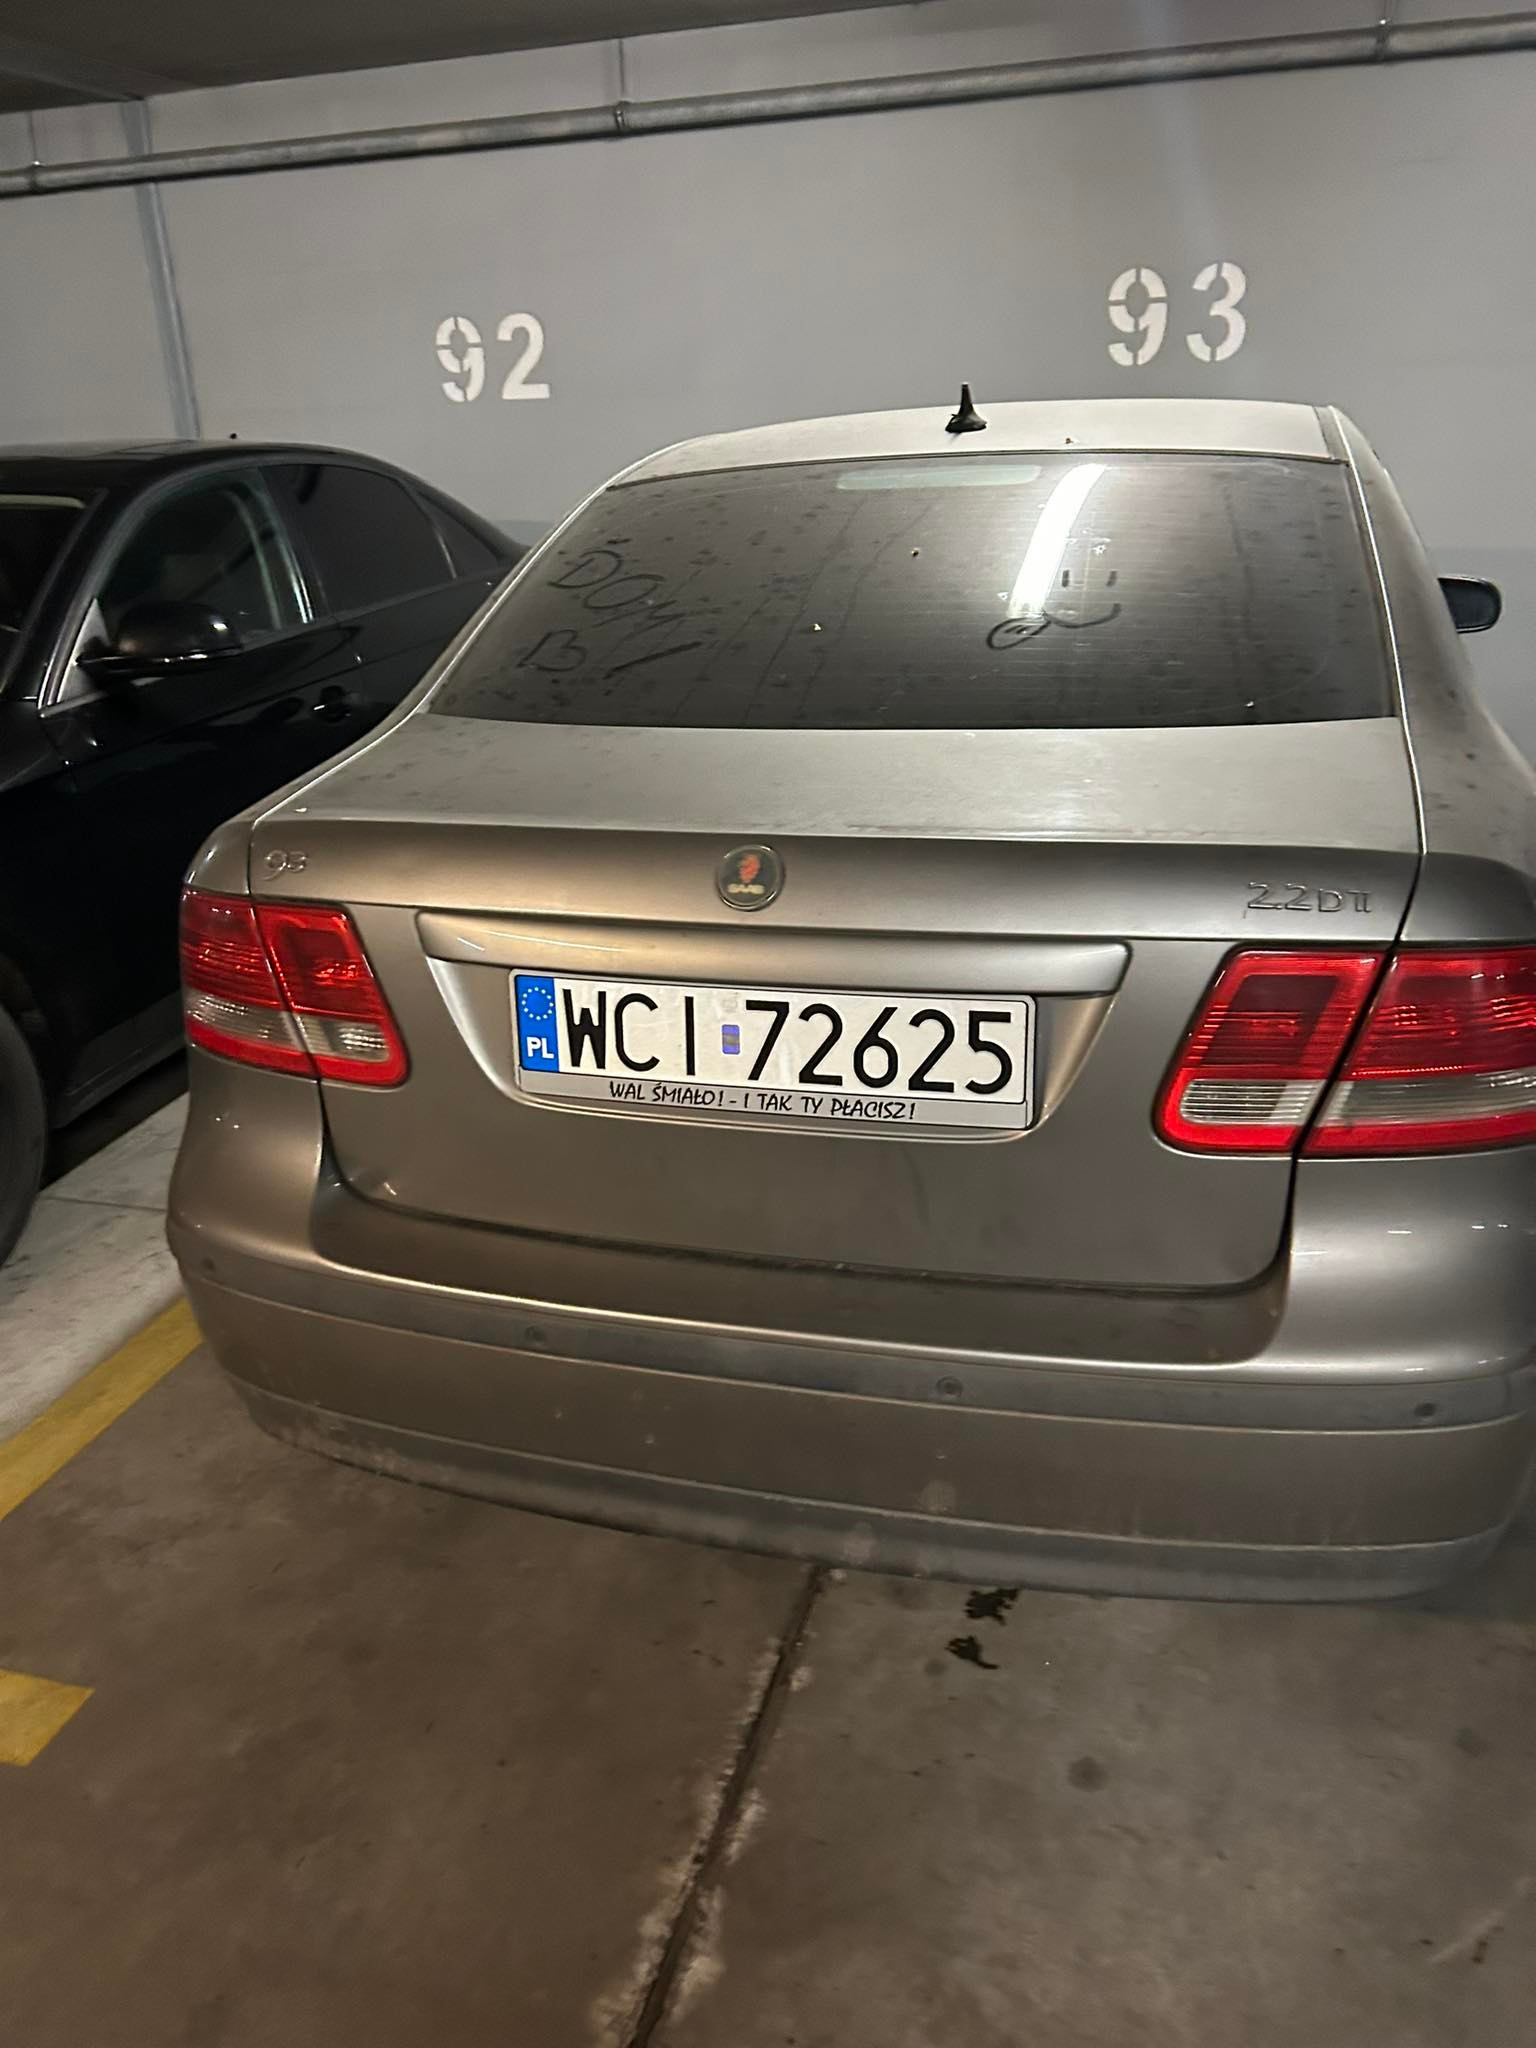number_plate: (510, 972, 1045, 1141)
